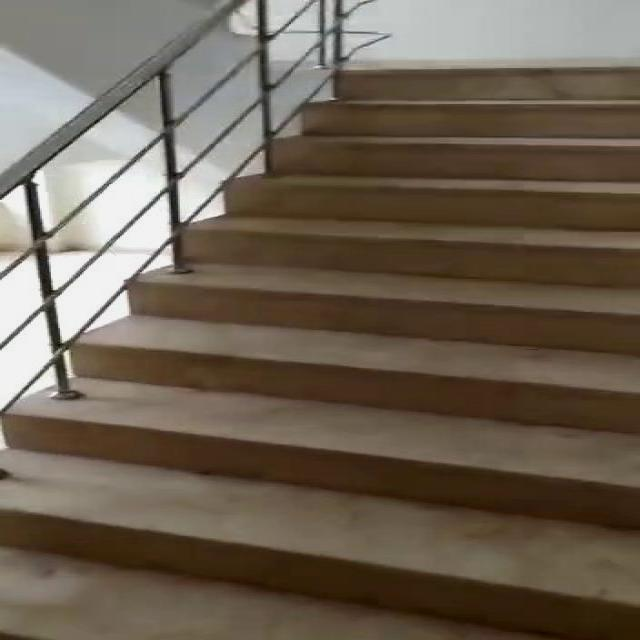stair: (4, 64, 640, 640)
